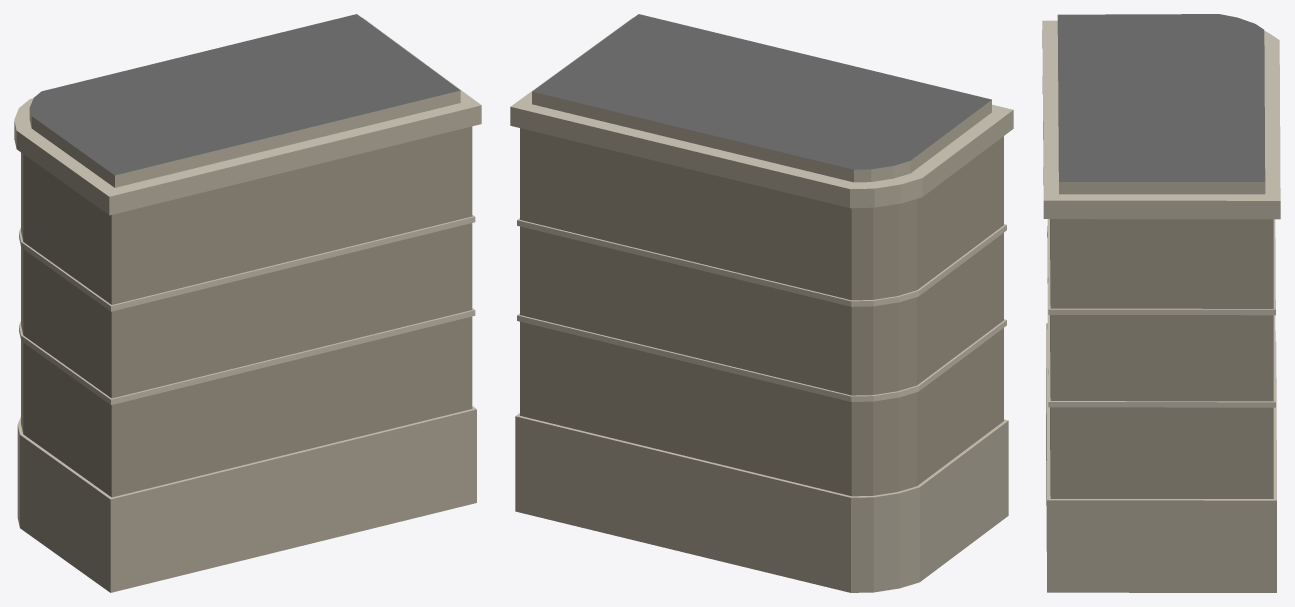
File: newhouse_building.glb
3 renders of one model, left to right at view 1: azimuth 30°, elevation 25°; view 2: azimuth 150°, elevation 25°; view 3: azimuth 270°, elevation 25°, orthographic. The views are drawn at different scales.
Parts seen in each view (by area): view 1: Newhouse_Building; view 2: Newhouse_Building; view 3: Newhouse_Building.
Part boxes in pixels (left/top/right/bottom): Newhouse_Building: left=14, top=14, right=481, bottom=592; Newhouse_Building: left=510, top=14, right=1013, bottom=592; Newhouse_Building: left=1042, top=14, right=1280, bottom=592.
Bounding box in the file's own units: 50.41 × 52.7 × 28.02.
